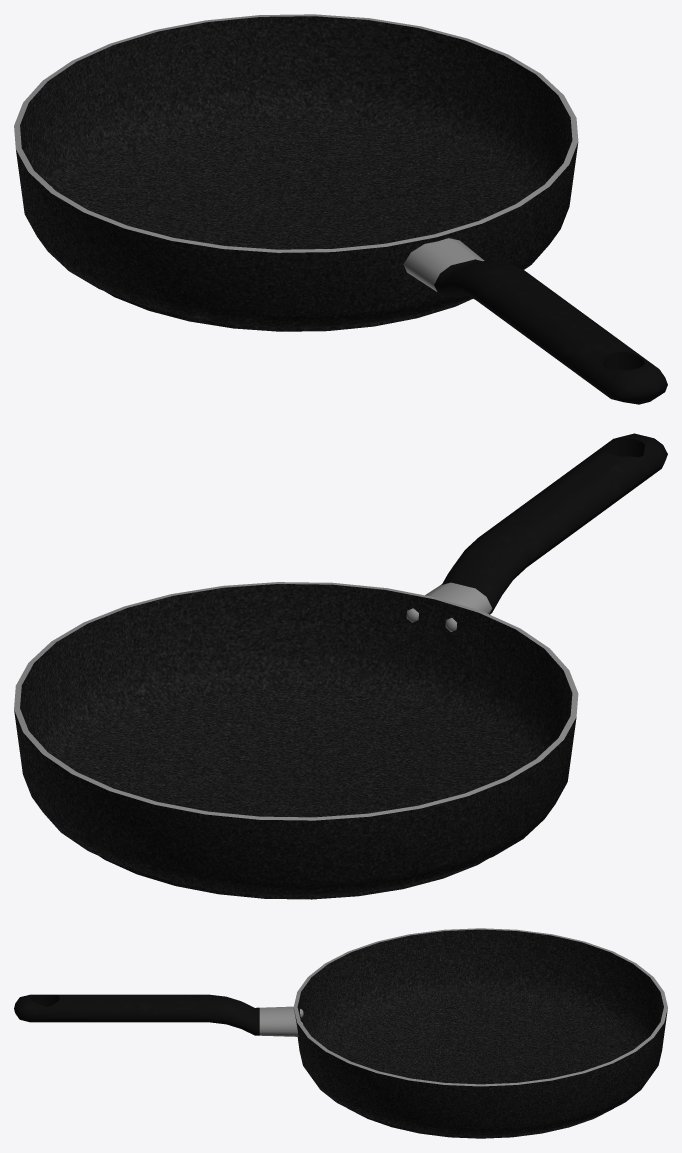
Rendered from frying-pan.glb.
3 renders of one model, top to bottom at view 1: azimuth 30°, elevation 25°; view 2: azimuth 150°, elevation 25°; view 3: azimuth 270°, elevation 25°, orthographic. The views are drawn at different scales.
Parts seen in each view (by area): view 1: Fry_pan; view 2: Fry_pan; view 3: Fry_pan.
Boxes of the visible parts, x1,y1,x2,y2 form: Fry_pan: (14, 14, 667, 404); Fry_pan: (14, 433, 667, 899); Fry_pan: (14, 928, 667, 1138).
Size of the model in its own units: 28 by 5.98 by 48.91.
1 material, 1 textured.
